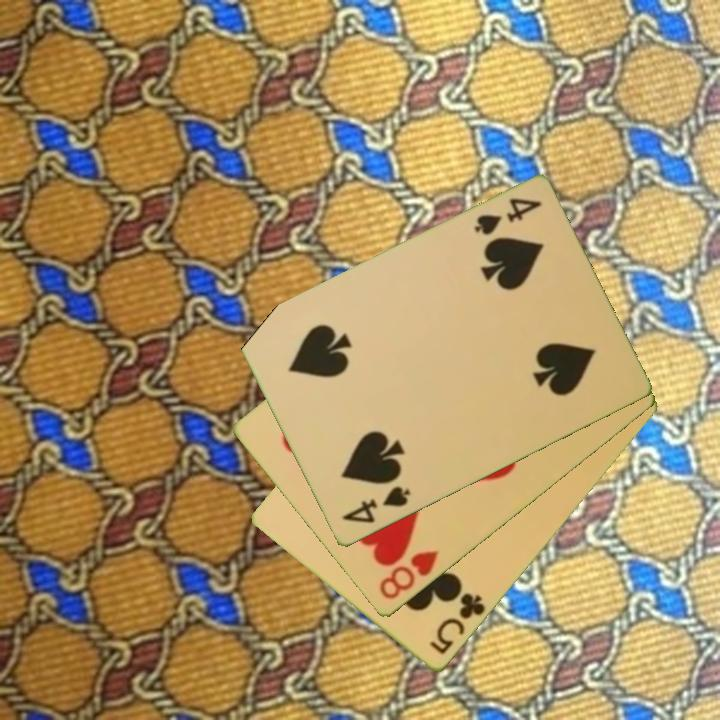4s: (338, 483, 413, 527), (470, 195, 544, 239)
5c: (425, 589, 488, 658)
8h: (375, 547, 442, 603)
